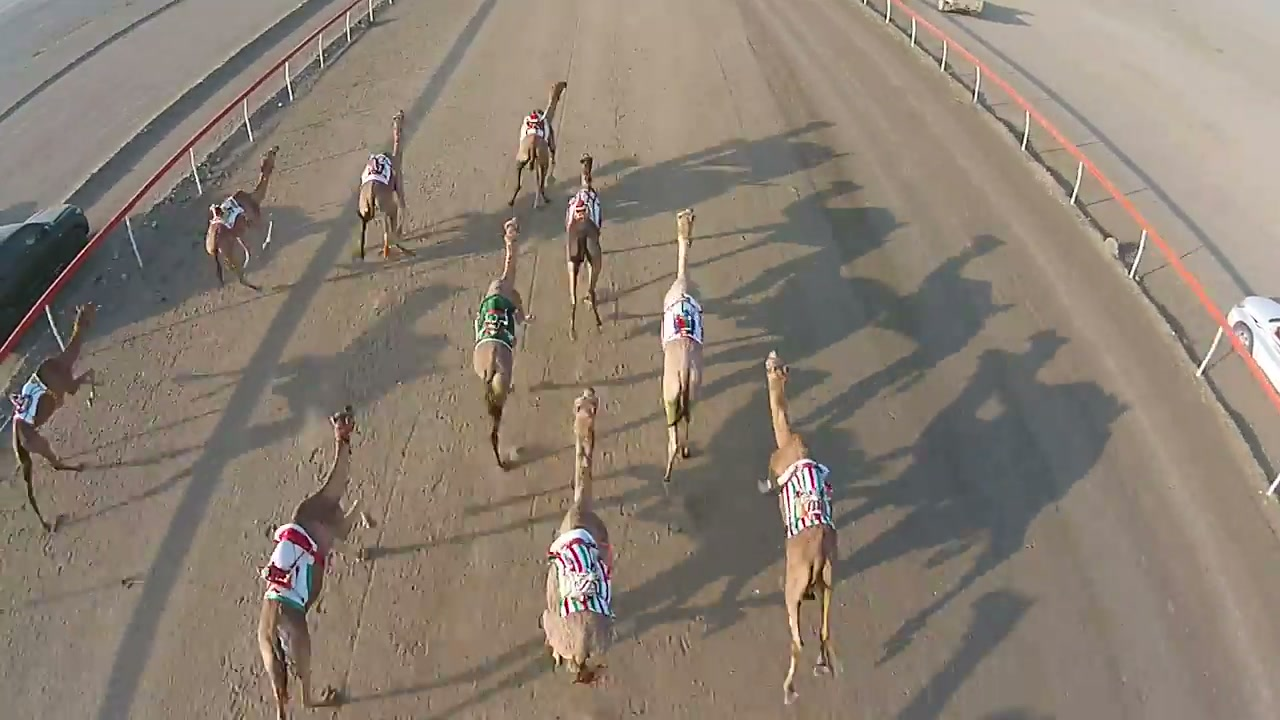animal_foot_print: (358, 257, 484, 719), (597, 373, 719, 704)
